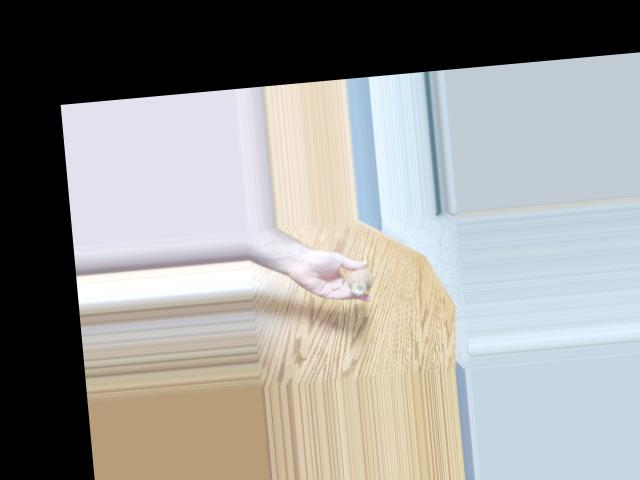sweet_potato: (347, 267, 376, 294)
